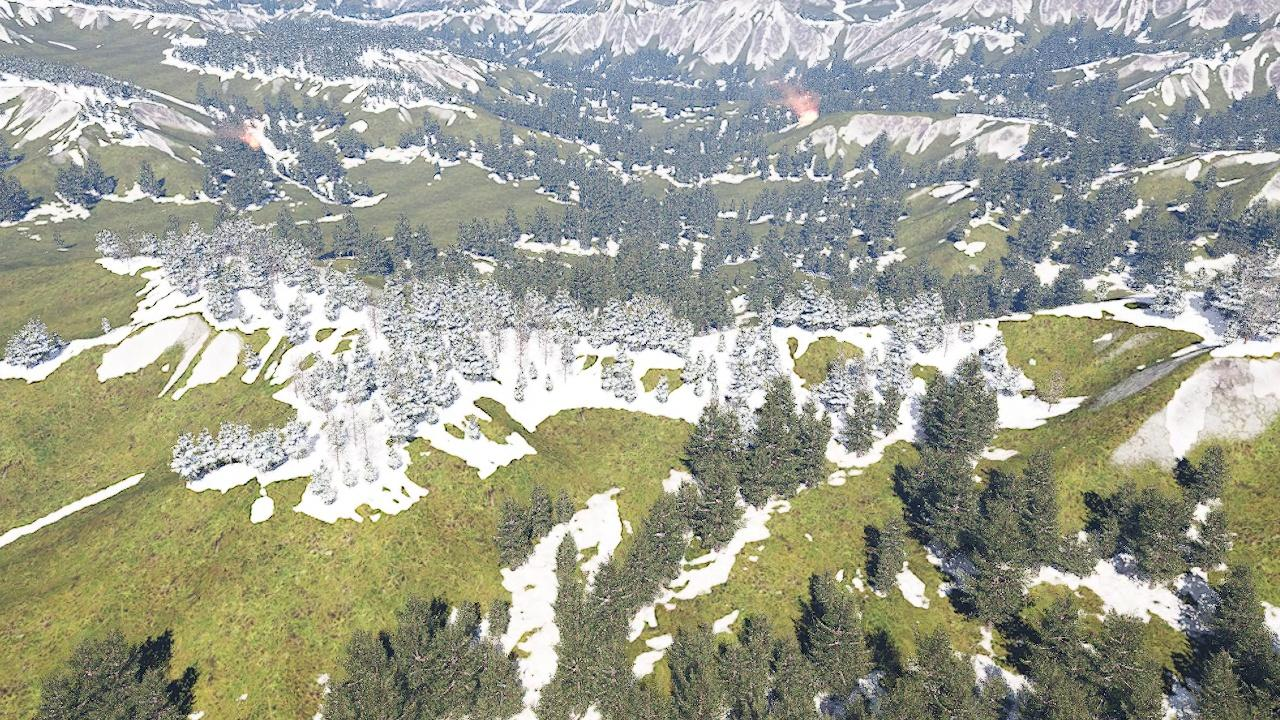fire: (802, 105, 823, 123), (242, 132, 261, 150)
smoke: (757, 61, 808, 106)
